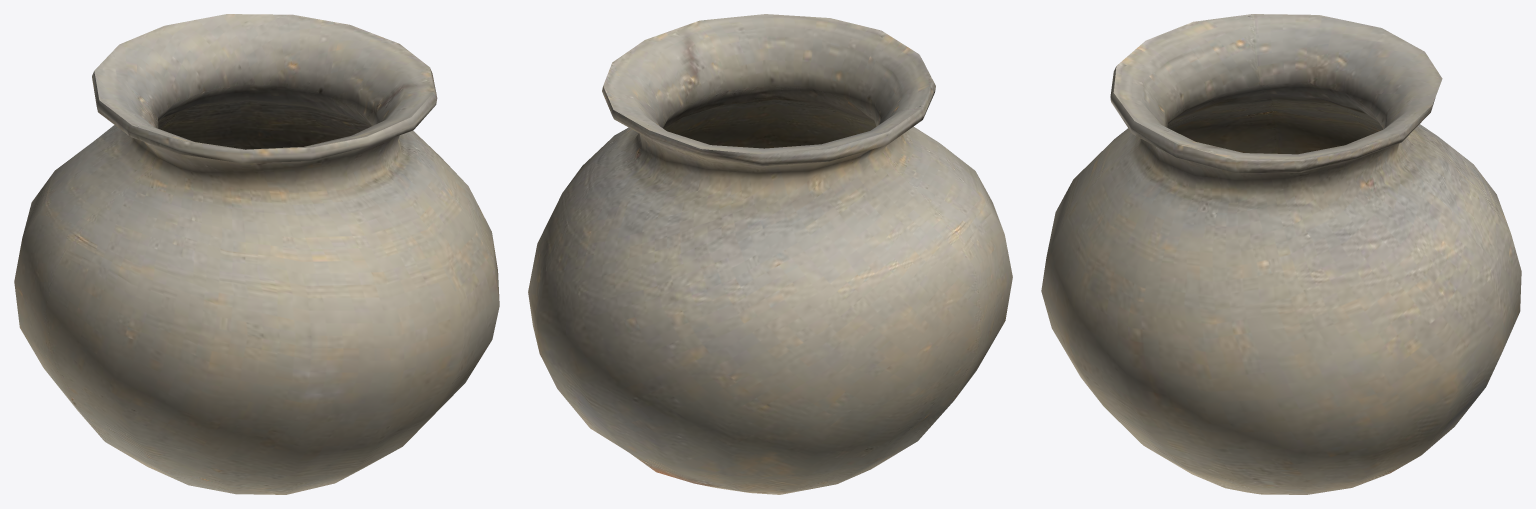
Rendered from antiquity7_72.fbx.
The picture shows the model from 3 angles, left to right: view 1: azimuth 30°, elevation 25°; view 2: azimuth 150°, elevation 25°; view 3: azimuth 270°, elevation 25°; orthographic projection.
Parts seen in each view (by area): view 1: 0503; view 2: 0503; view 3: 0503.
Boxes of the visible parts, x1,y1,x2,y2 form: 0503: [14, 14, 499, 494]; 0503: [528, 14, 1012, 494]; 0503: [1041, 14, 1521, 494].
Size of the model in its own units: 38.97 by 33.82 by 38.55.
Materials: 1 (1 with a texture image).
